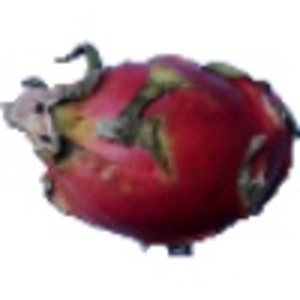pitaia: (1, 40, 300, 260)
